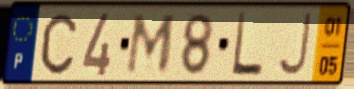4: (79, 10, 113, 78)
8: (179, 12, 216, 77)
C: (39, 11, 79, 77)
J: (275, 11, 314, 79)
L: (229, 10, 265, 79)
M: (124, 12, 179, 77)
